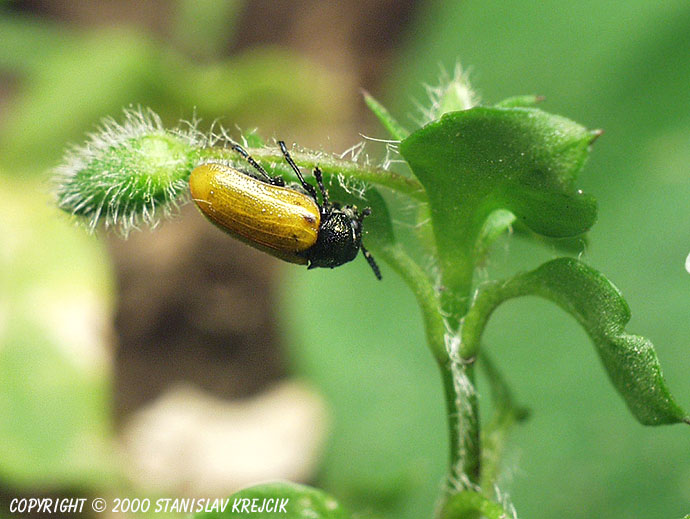Labidostomis_longimana: (185, 138, 389, 289)
